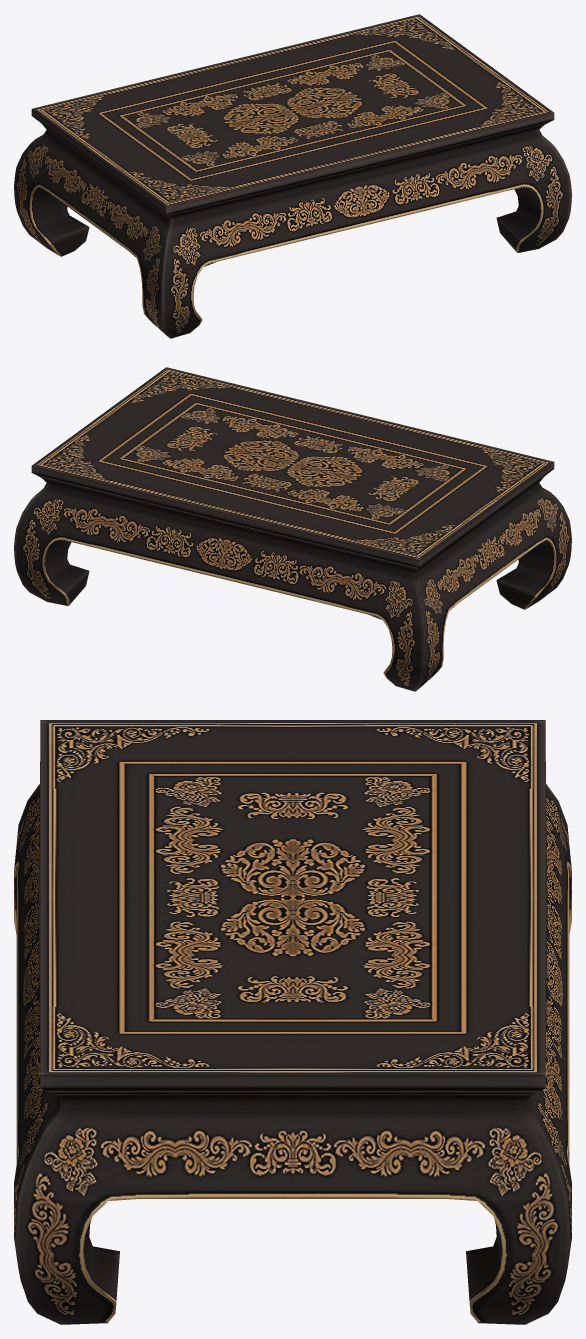
File: Table02.FBX
The picture shows the model from 3 angles, top to bottom: view 1: azimuth 30°, elevation 25°; view 2: azimuth 150°, elevation 25°; view 3: azimuth 270°, elevation 25°; orthographic projection. The views are drawn at different scales.
Parts seen in each view (by area): view 1: Table02; view 2: Table02; view 3: Table02.
Part boxes in pixels (bbox=[...]): Table02: bbox=[14, 14, 571, 338]; Table02: bbox=[14, 367, 571, 691]; Table02: bbox=[14, 720, 571, 1324].
Size of the model in its own units: 209 by 130 by 66.47.
